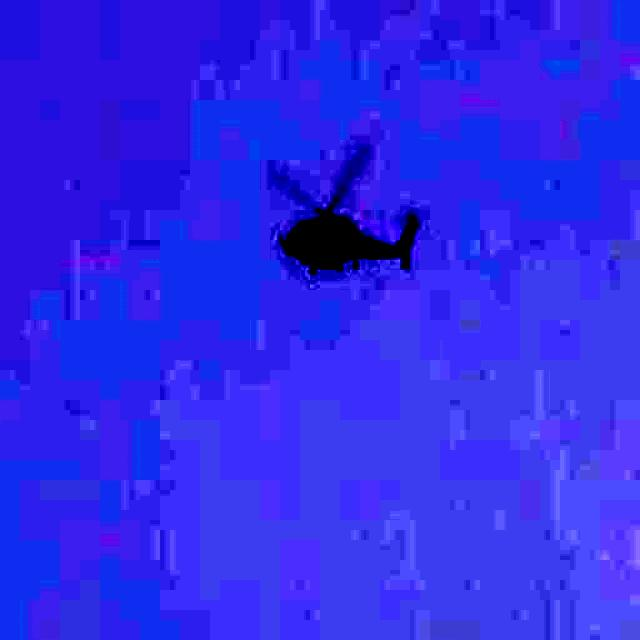drone: (266, 139, 428, 322)
